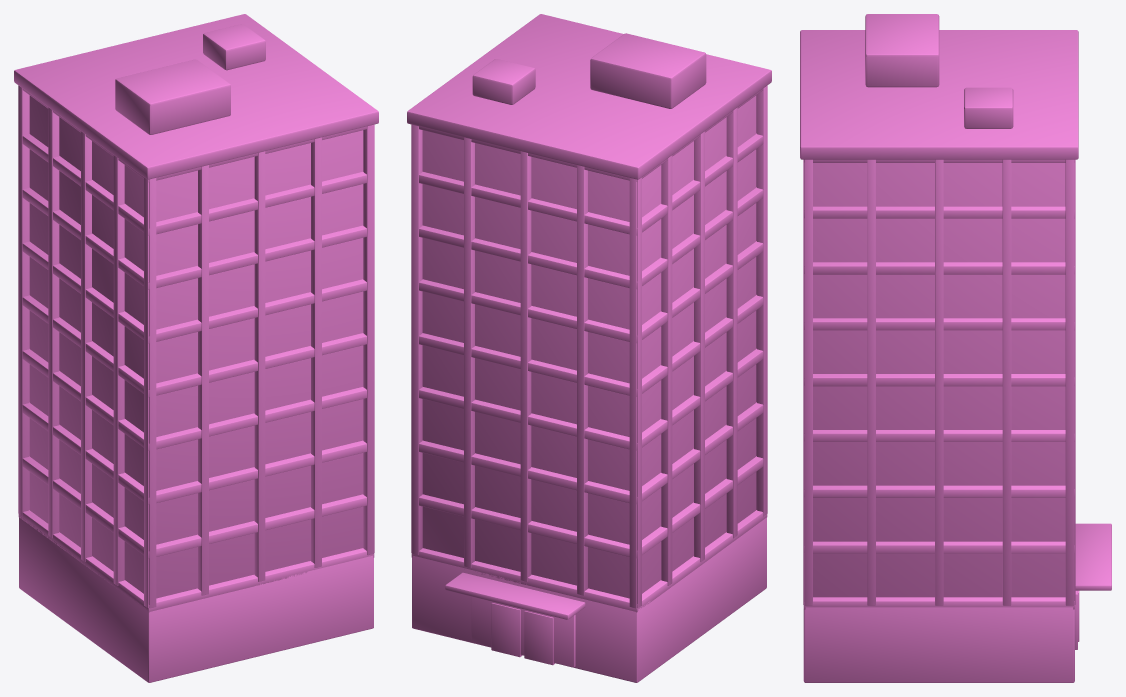
The model's file is Downtown_Office.fbx.
3 views of the same model, side by side, from view 1: azimuth 30°, elevation 25°; view 2: azimuth 150°, elevation 25°; view 3: azimuth 270°, elevation 25° (orthographic). The views are drawn at different scales.
Parts seen in each view (by area): view 1: Body, Paint; view 2: Body, Paint; view 3: Body, Paint.
Boxes of the visible parts, <box> form: Body: <box>14,14,378,598</box>; Paint: <box>18,85,374,682</box>; Body: <box>407,14,771,667</box>; Paint: <box>411,85,767,682</box>; Body: <box>800,14,1111,649</box>; Paint: <box>803,159,1075,682</box>.
Bounding box in the file's own units: 22.6 × 51.2 × 25.3.
Materials: 1 (1 with a texture image).
